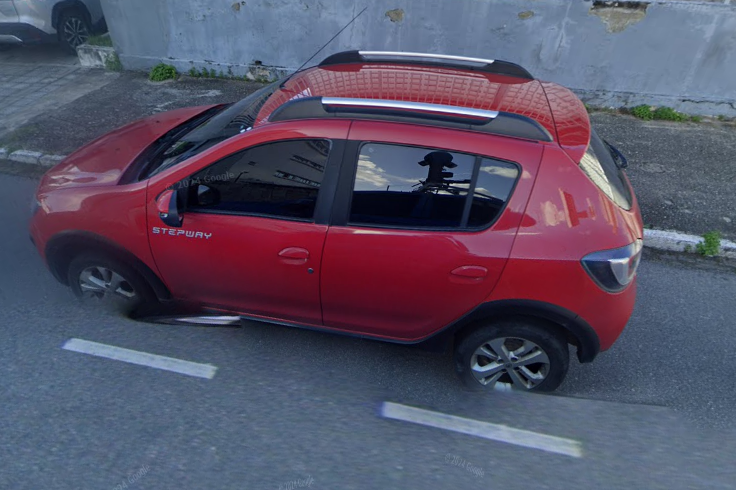car: (29, 5, 647, 404)
